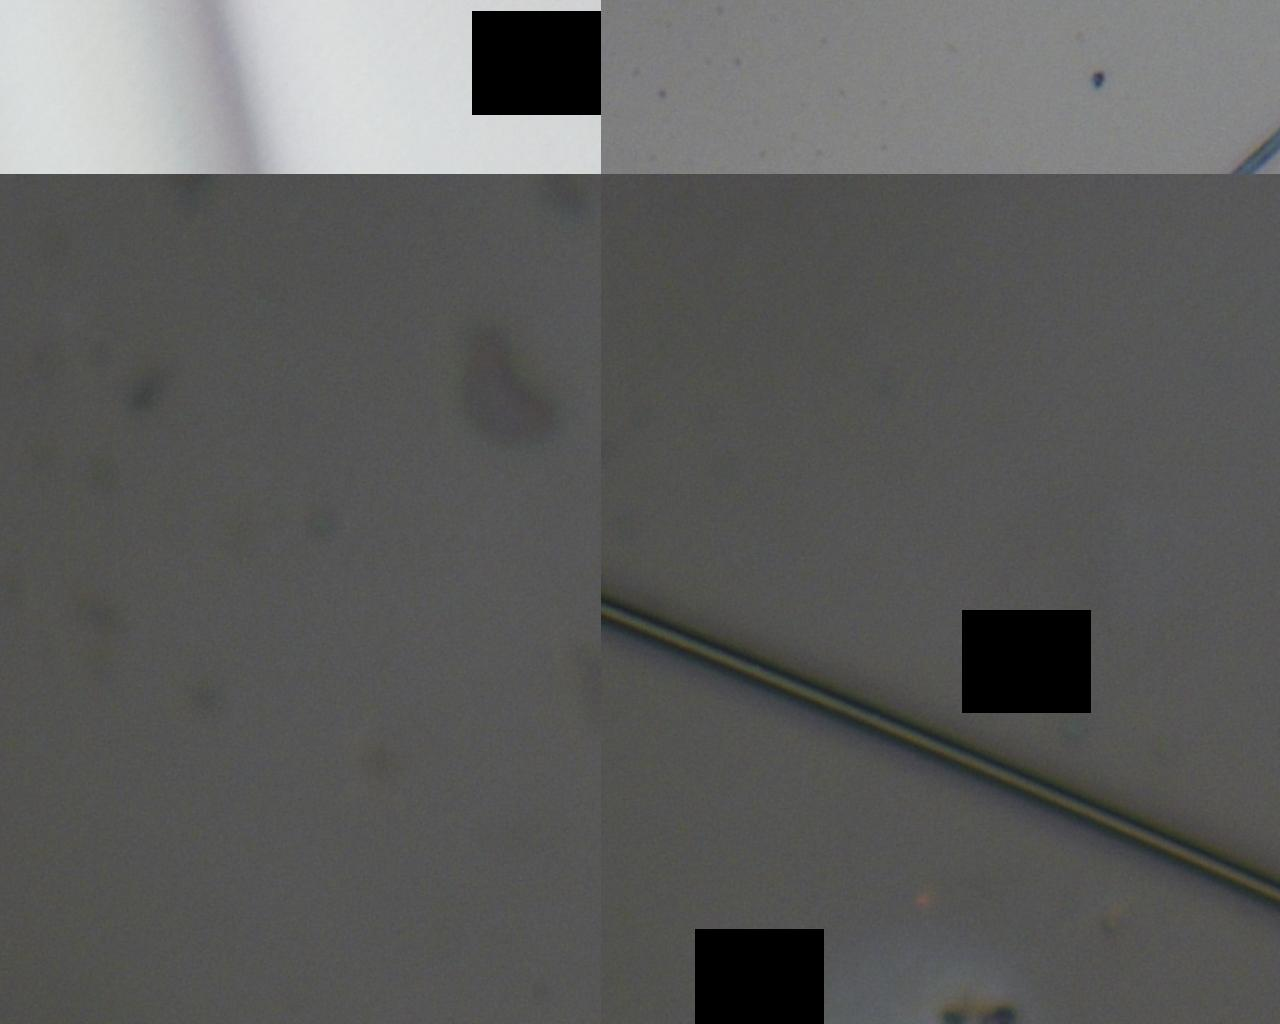fiber: (678, 249, 1280, 634), (0, 675, 624, 1024), (678, 774, 1280, 1024)
